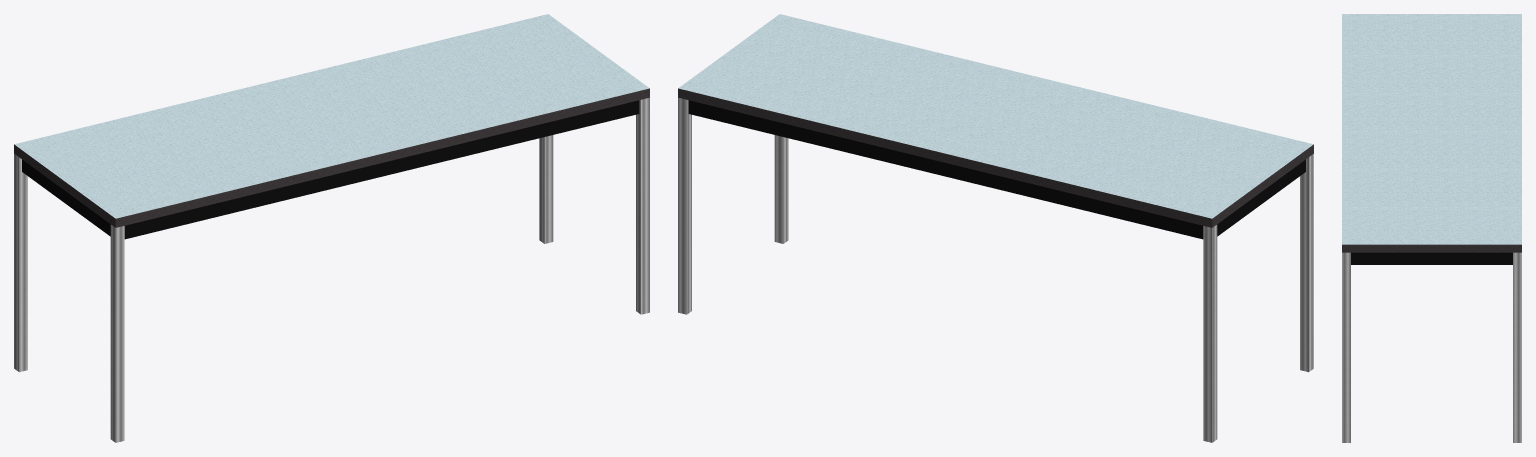
The model's file is lab_table.dae.
3 renders of one model, left to right at view 1: azimuth 30°, elevation 25°; view 2: azimuth 150°, elevation 25°; view 3: azimuth 270°, elevation 25°, orthographic. The views are drawn at different scales.
Visible parts, largest first — view 1: SketchUp (×8); view 2: SketchUp (×8); view 3: SketchUp (×5).
Boxes of the visible parts, x1=… form: SketchUp (×8): x1=14, y1=14, x2=649, y2=442; SketchUp (×8): x1=678, y1=14, x2=1313, y2=442; SketchUp (×5): x1=1342, y1=14, x2=1521, y2=442.
Size of the model in its own units: 71.65 by 23.62 by 28.74.
5 materials, 4 textured.
